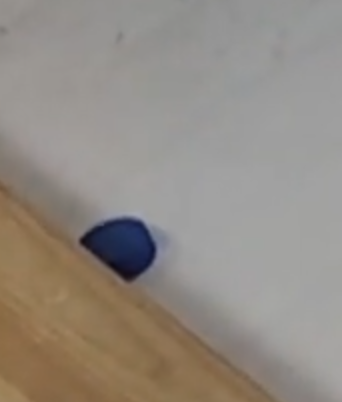puck: (78, 218, 159, 281)
